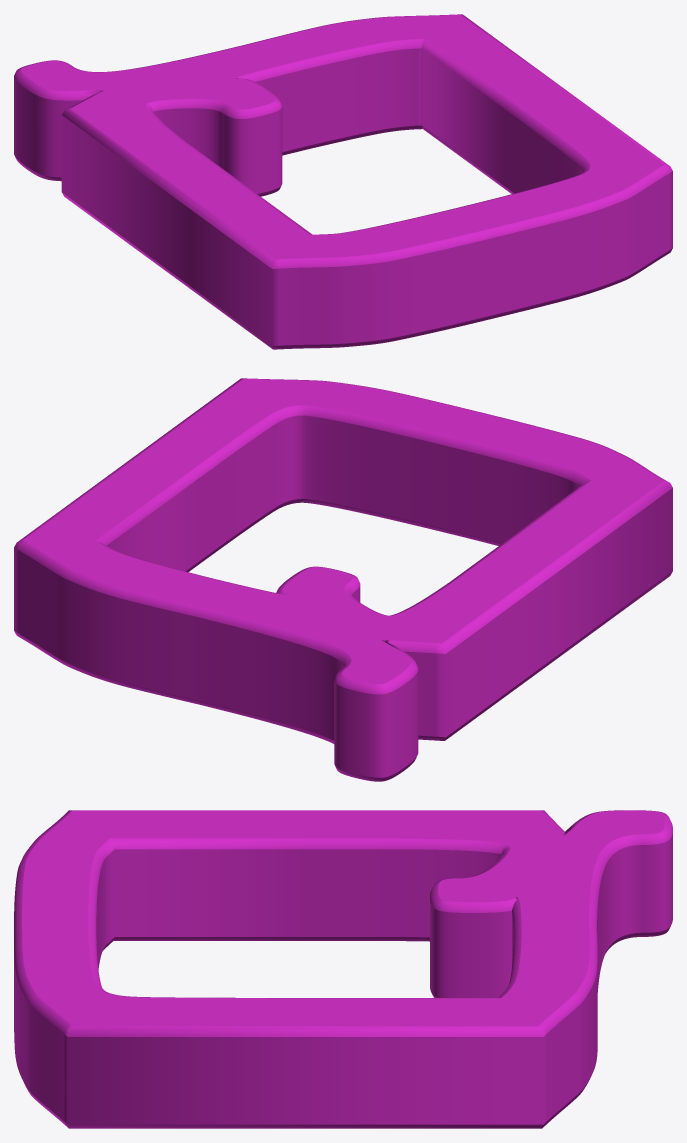
File: Letter_Q_Capital_CoolFont.fbx
3 renders of one model, top to bottom at view 1: azimuth 30°, elevation 25°; view 2: azimuth 150°, elevation 25°; view 3: azimuth 270°, elevation 25°, orthographic. The views are drawn at different scales.
Visible parts, largest first — view 1: Letter_Q; view 2: Letter_Q; view 3: Letter_Q.
Part boxes in pixels (bbox=[...]): Letter_Q: bbox=[14, 14, 672, 349]; Letter_Q: bbox=[14, 378, 672, 781]; Letter_Q: bbox=[14, 810, 672, 1128].
Bounding box in the file's own units: 0.6529 × 0.14 × 0.8171.
